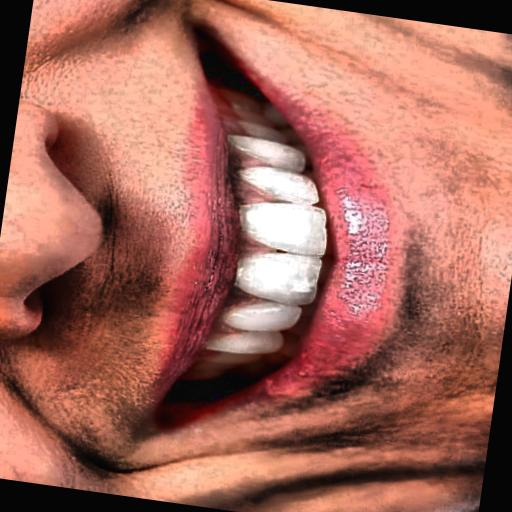Healthy: (134, 34, 384, 436)
